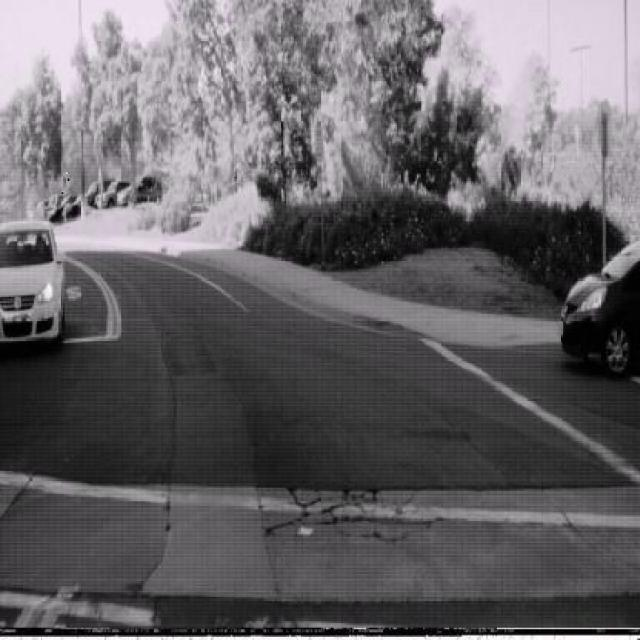pedestrianCrossing: (57, 168, 72, 197)
